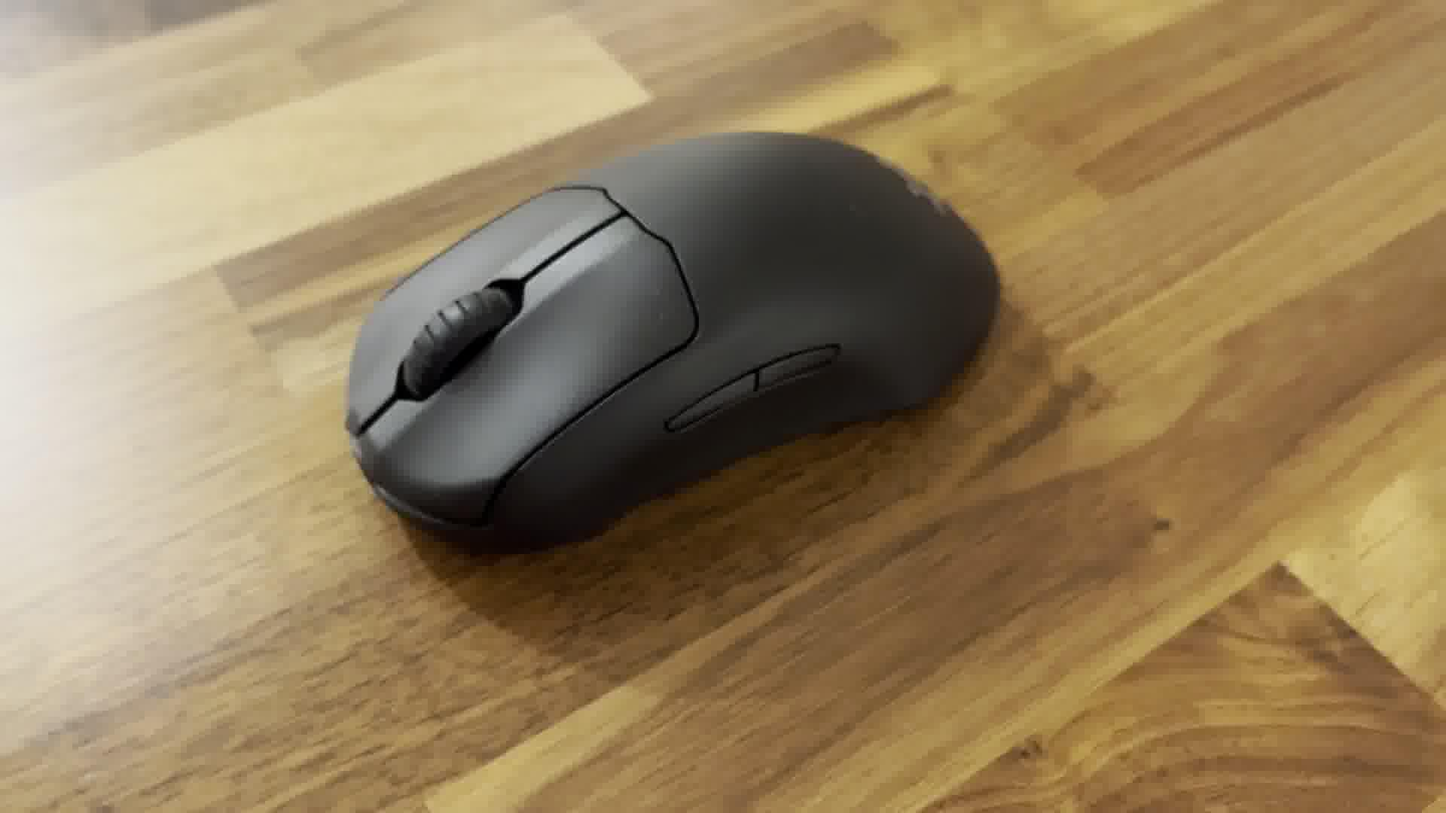mouse: (339, 125, 1001, 558)
